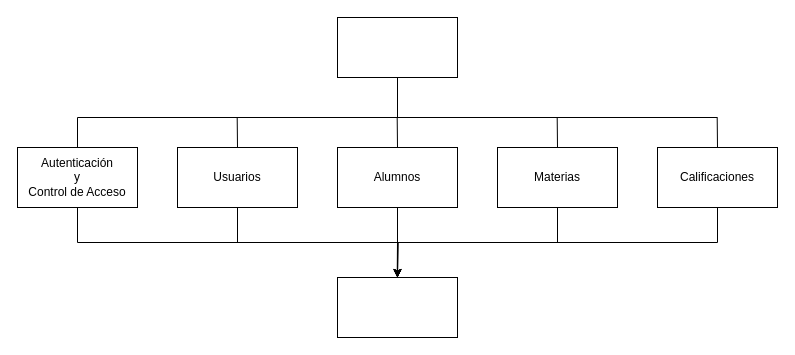
Some shapes in this 795 by 355 pixel diagram are drawn without their labels. Each missing label, with the centre of its shape:
Base de Datos: the point at 397,307
Sistema de Gestión Académica (SGAB): the point at 397,47
